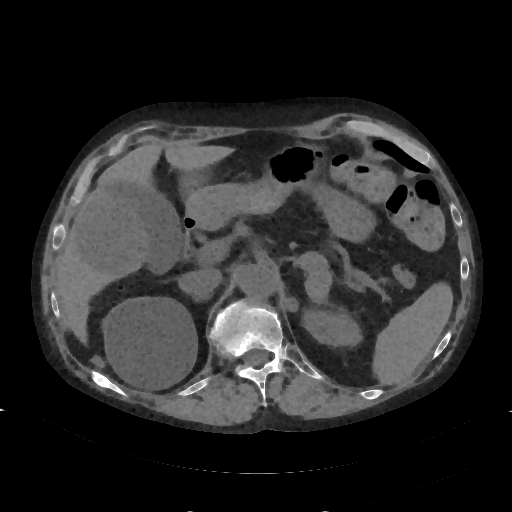Lesion: (101, 294, 201, 395)
